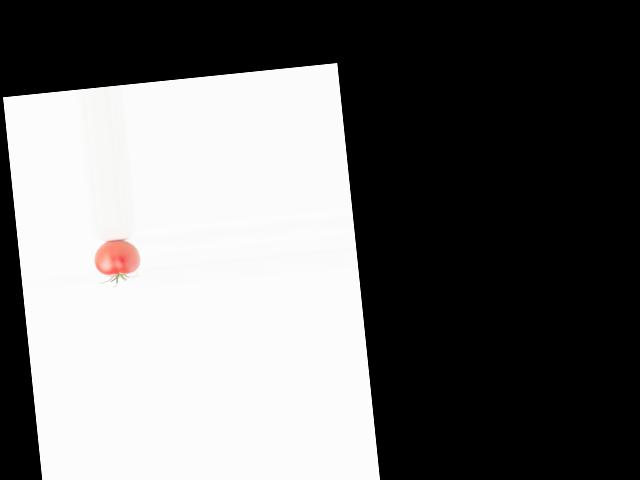tomato: (92, 238, 141, 277)
